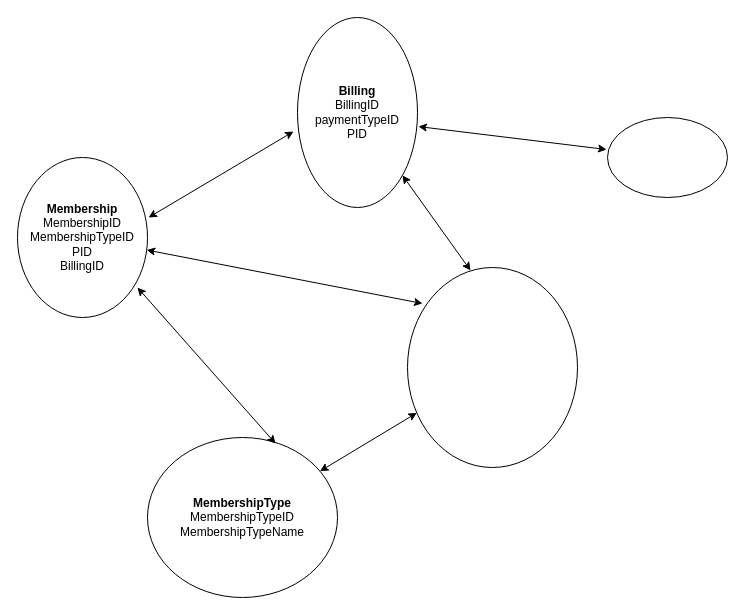
Image size: 745x615. Some labels were removed from this diagram. The shapes that lost their labels are listed below. From the top down, each one's centre as x and y in pixels, then its label:
At (x=667, y=157): "PaymentType PaymentTypeID PaymentName".
At (x=492, y=367): "Person PID Name Age Sex Contact".
